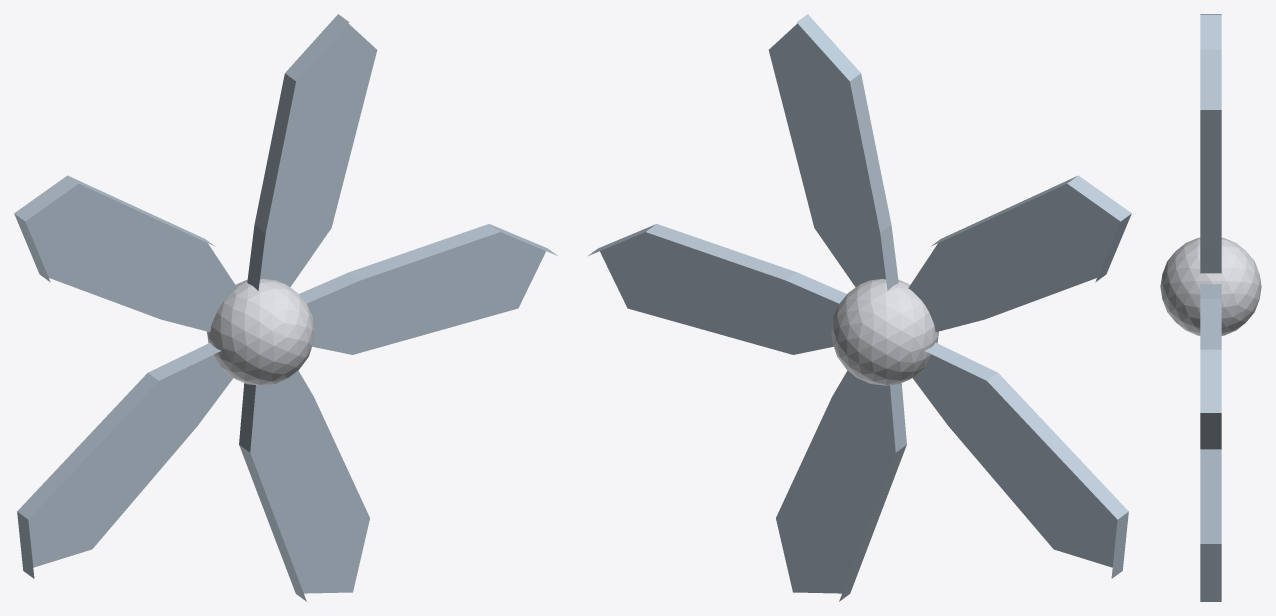
File: aspas_ventilador.glb
3 renders of one model, left to right at view 1: azimuth 30°, elevation 25°; view 2: azimuth 150°, elevation 25°; view 3: azimuth 270°, elevation 25°, orthographic. The views are drawn at different scales.
Visible parts, largest first — view 1: blade2, blade4, blade3, blade1, blade5, hub; view 2: blade2, blade4, blade3, blade1, blade5, hub; view 3: hub, blade2, blade1, blade5, blade3.
Part boxes in pixels (x1,y1,x2,y2): blade2: [247, 14, 377, 290]; blade4: [17, 343, 233, 578]; blade3: [14, 175, 237, 331]; blade1: [299, 224, 558, 354]; blade5: [239, 370, 369, 601]; hub: [207, 279, 314, 385]; blade2: [768, 14, 898, 290]; blade4: [912, 343, 1128, 578]; blade3: [908, 175, 1131, 331]; blade1: [587, 224, 846, 354]; blade5: [776, 370, 906, 601]; hub: [831, 279, 938, 385]; hub: [1160, 237, 1261, 335]; blade2: [1200, 49, 1221, 273]; blade1: [1200, 284, 1221, 449]; blade5: [1200, 449, 1221, 601]; blade3: [1200, 14, 1221, 49].
Bounding box in the file's own units: 2.74 × 2.85 × 0.48.
